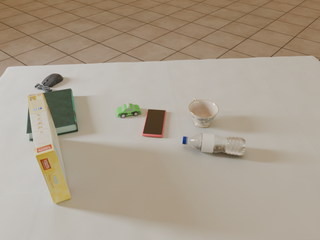book: (27, 89, 78, 141)
bottle: (183, 133, 246, 156)
box: (27, 93, 71, 204)
cup: (189, 98, 219, 127)
mouse: (35, 74, 63, 92)
phone: (142, 109, 166, 137)
toy_car: (116, 102, 141, 118)
